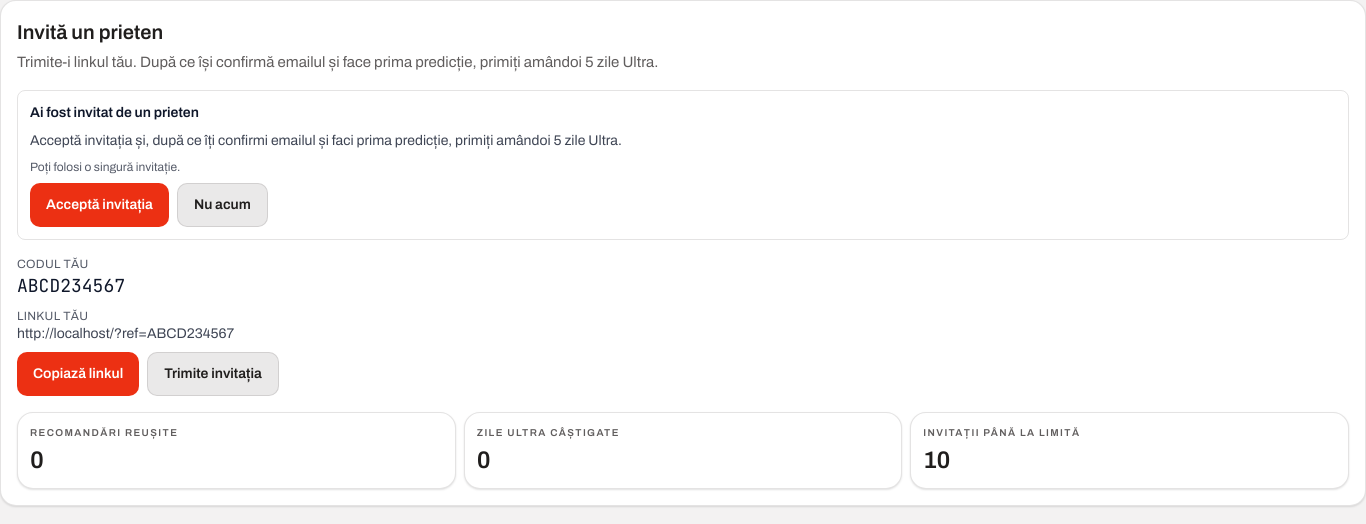
Test: claiming an invitation › maps a 404 refusal to a safe message and drops the dead code
Click the button "Acceptă invitația". click: click(99, 204)
box: 30,182 -> 169,226
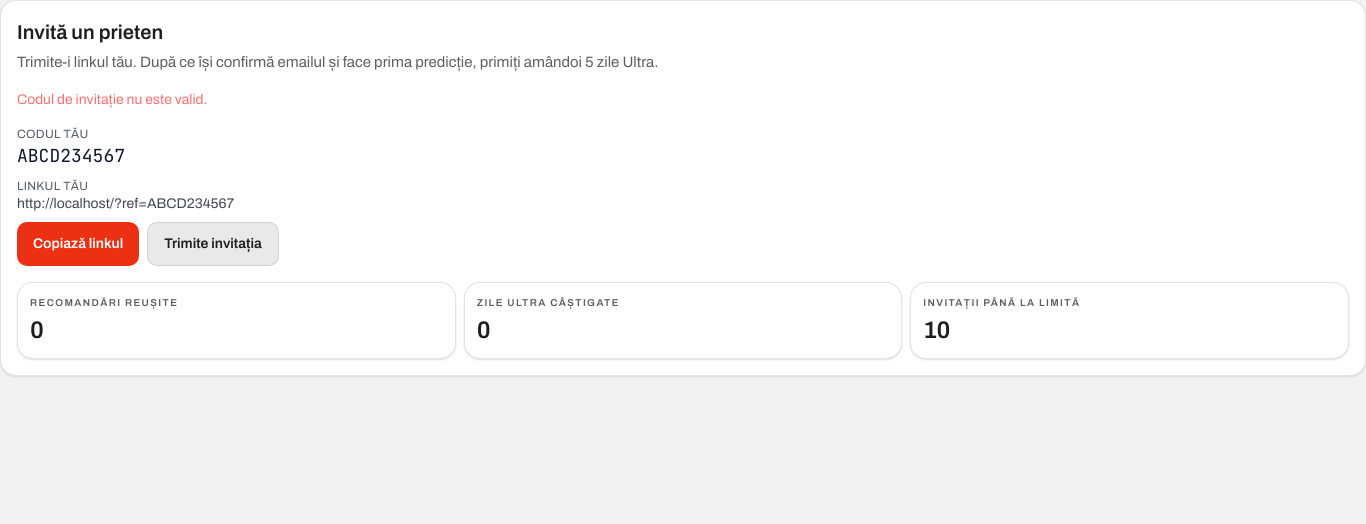
Result: the text "Codul de invitație nu este valid." is shown at 17,92 -> 207,106
